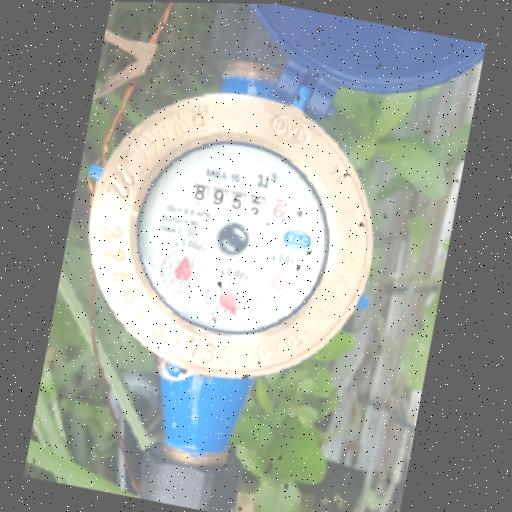2: (248, 194, 266, 217)
5: (229, 190, 246, 213)
6: (270, 197, 287, 222)
8: (191, 183, 209, 206)
9: (210, 187, 227, 210)
border_water_meter_number: (188, 180, 289, 224)
